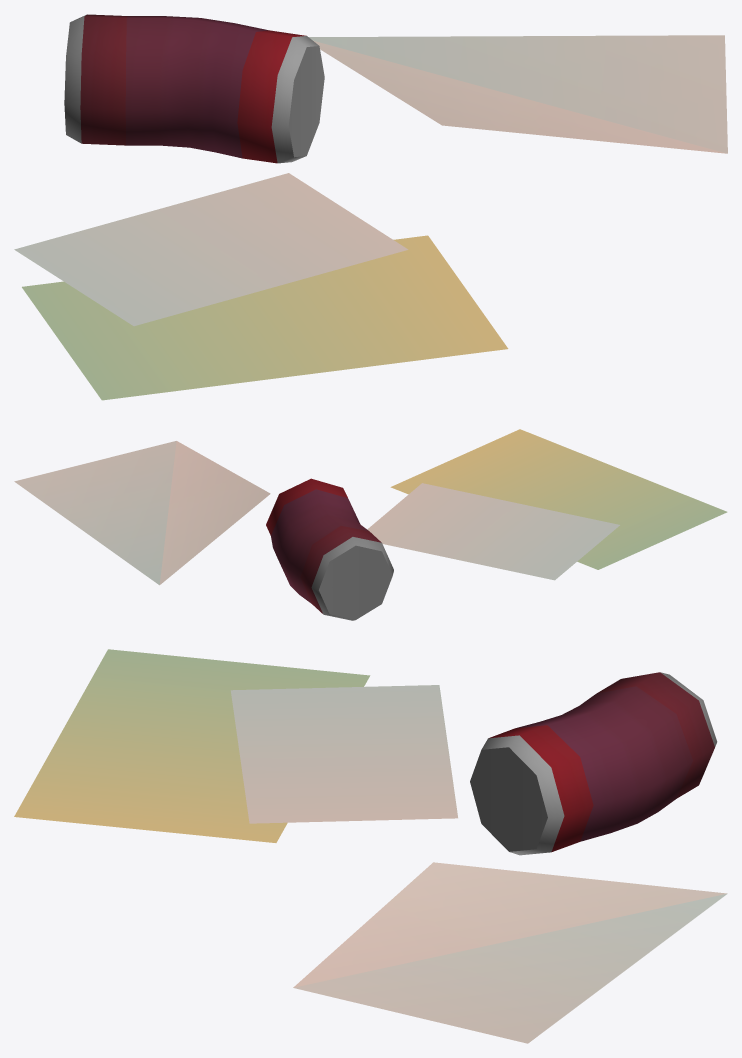
The model's file is Floor_Trash.glb.
The picture shows the model from 3 angles, top to bottom: view 1: azimuth 30°, elevation 25°; view 2: azimuth 150°, elevation 25°; view 3: azimuth 270°, elevation 25°; orthographic projection. The views are drawn at different scales.
Visible parts, largest first — view 1: floor_trash; view 2: floor_trash; view 3: floor_trash.
Part boxes in pixels (bbox=[...]): floor_trash: bbox=[14, 14, 727, 400]; floor_trash: bbox=[14, 429, 727, 620]; floor_trash: bbox=[14, 649, 727, 1043].
Size of the model in its own units: 1 by 0.1418 by 0.7648.
Materials: 1 (1 with a texture image).
